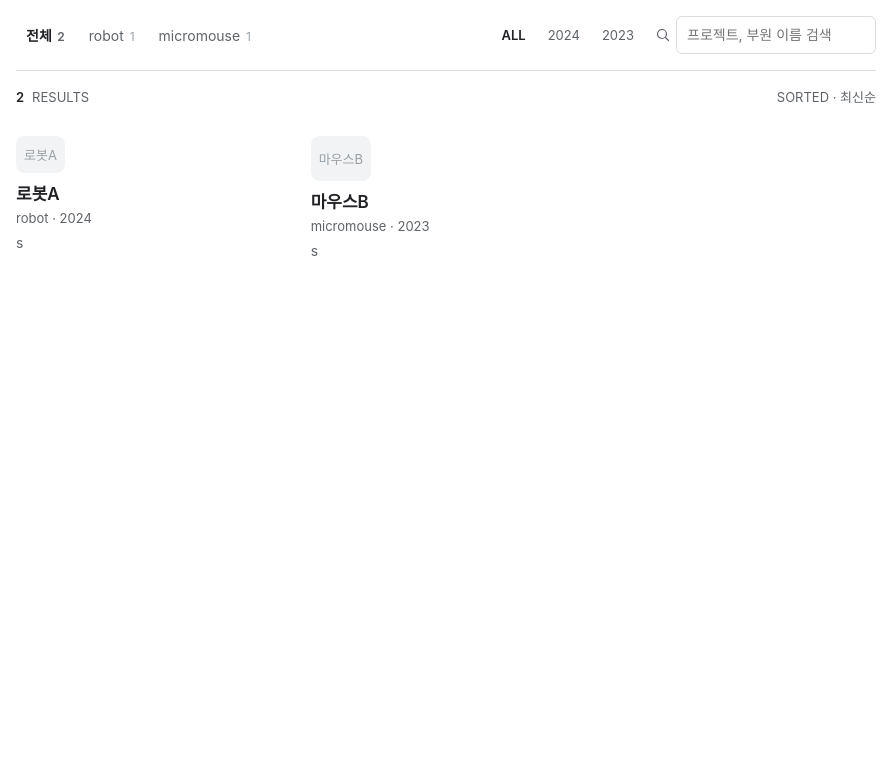
Test case: App › 카드를 클릭하면 별도 상세 페이지로 이동한다
Check: the heading "로봇A" is shown, box [16,184,60,204]
Click the button "로봇A 로봇A robot · 2024 s": (40,155) [16,136,287,261]
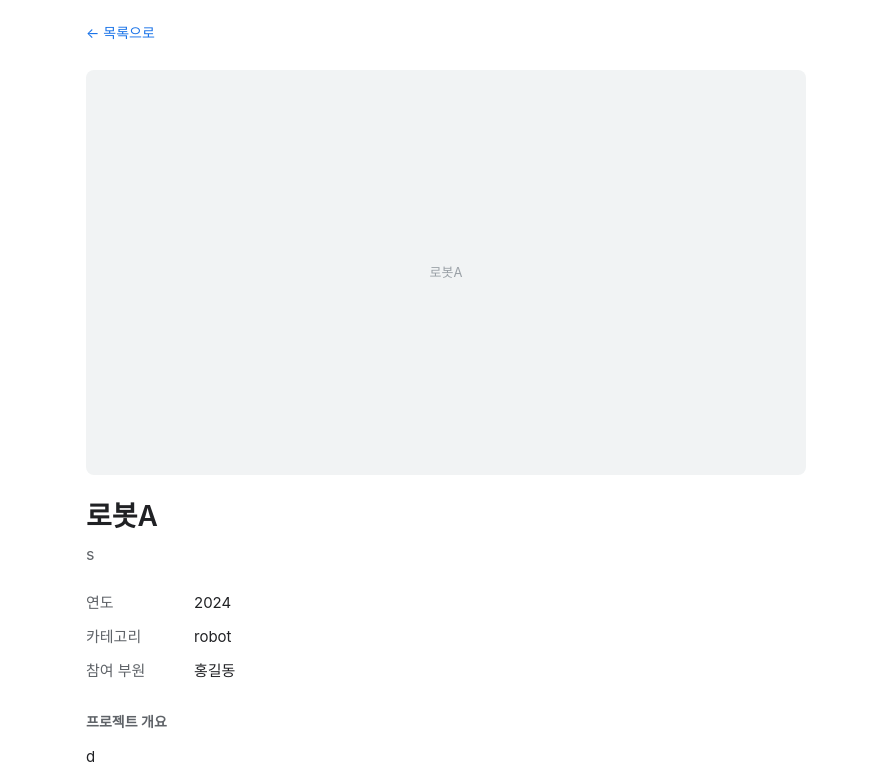
Check: the link "← 목록으로" is shown, box [86,24,155,41]
Check: the heading "프로젝트 개요" is shown, box [86,713,167,730]
Check: the button "micromouse 1" is gone
